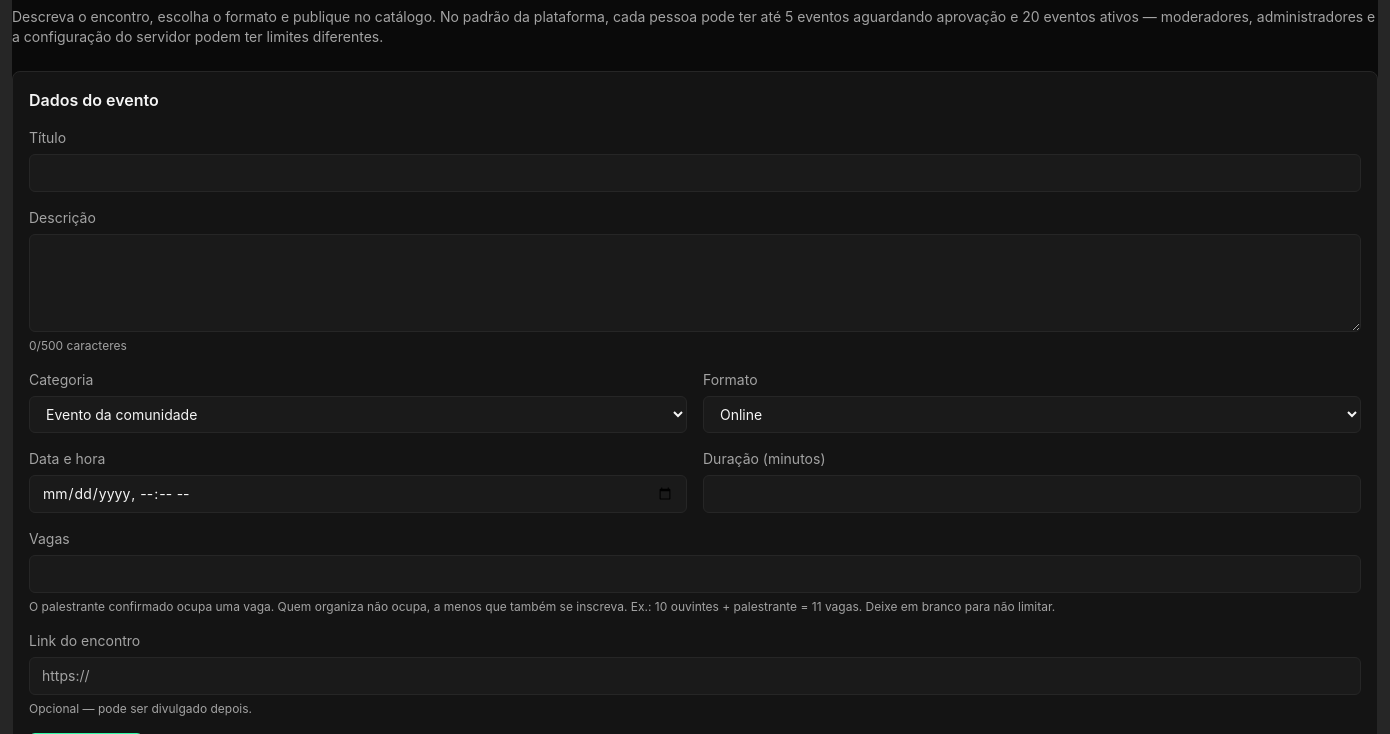
it: NewEventPage › trocar para INPERSON mostra o AddressPicker e esconde o link
Select "Presencial" in the dropdown labelled "Formato" at [1032, 414], box [703,396,1361,433]
(page scrolled)
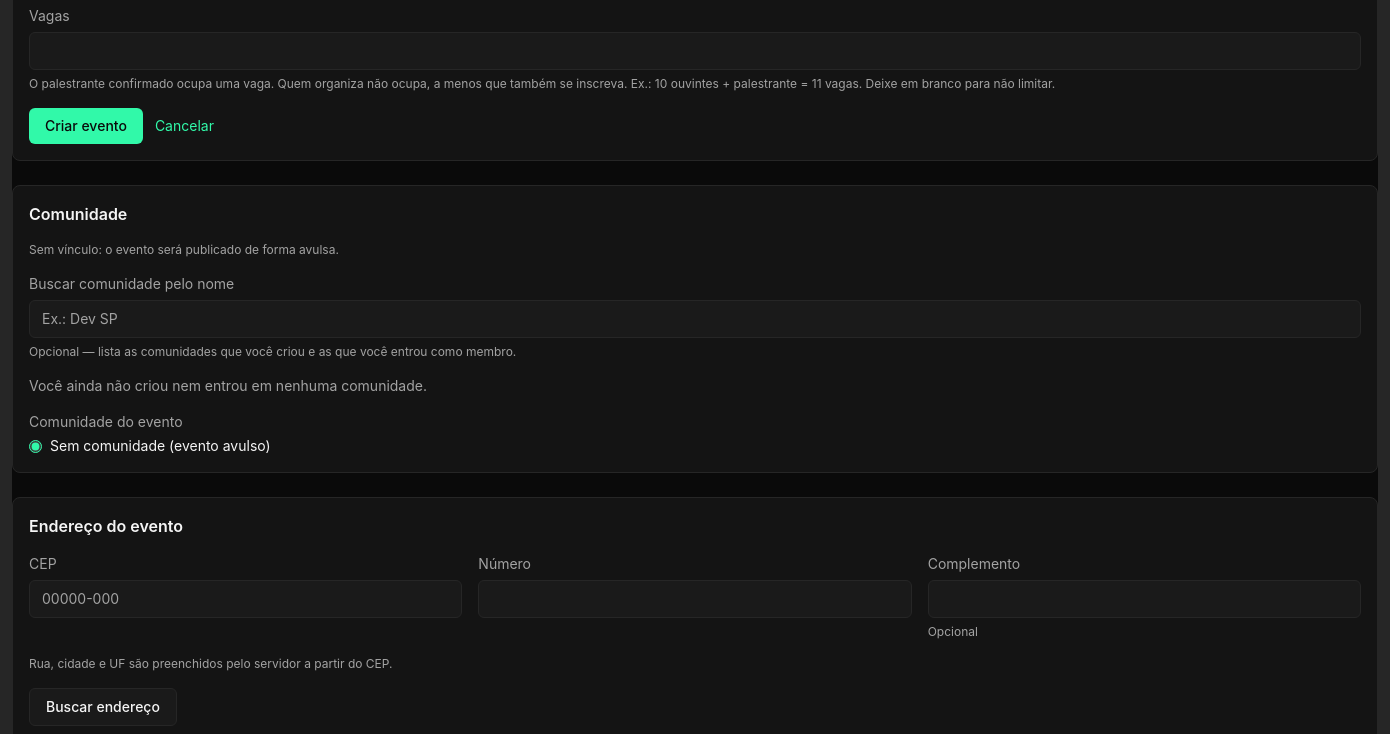
Expected: the heading "Endereço do evento" is shown, [29,516,183,536]
Expected: the label labelled "Link do encontro" is gone
